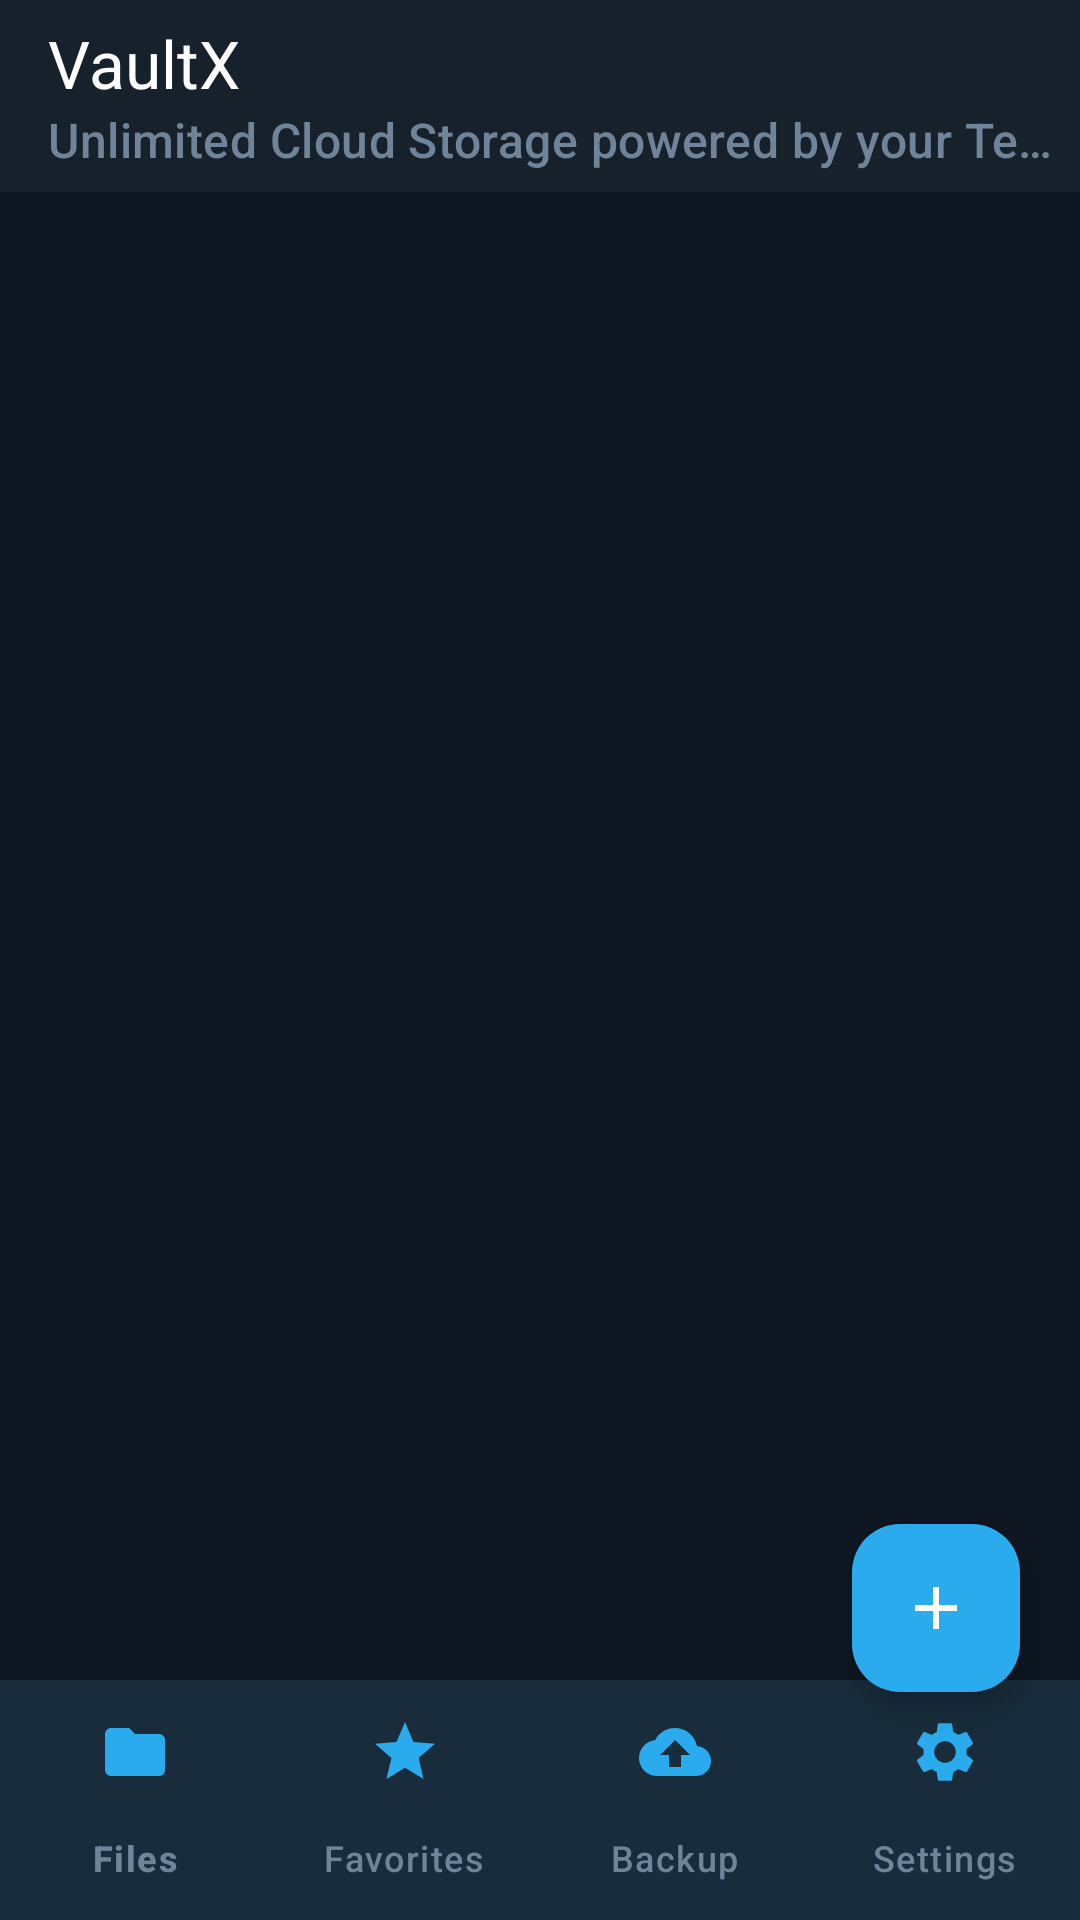

Screen size 1080px x 1920px. Icon name, then its center in pixels as point (x, y):
Upload File: point (936, 1608)
